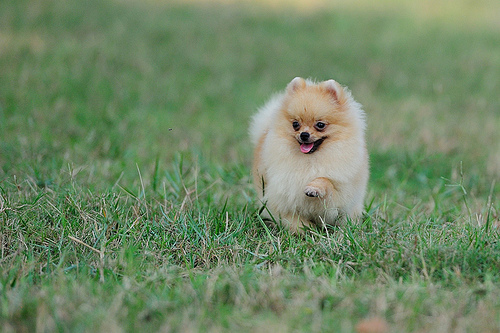dog: (248, 75, 374, 239)
